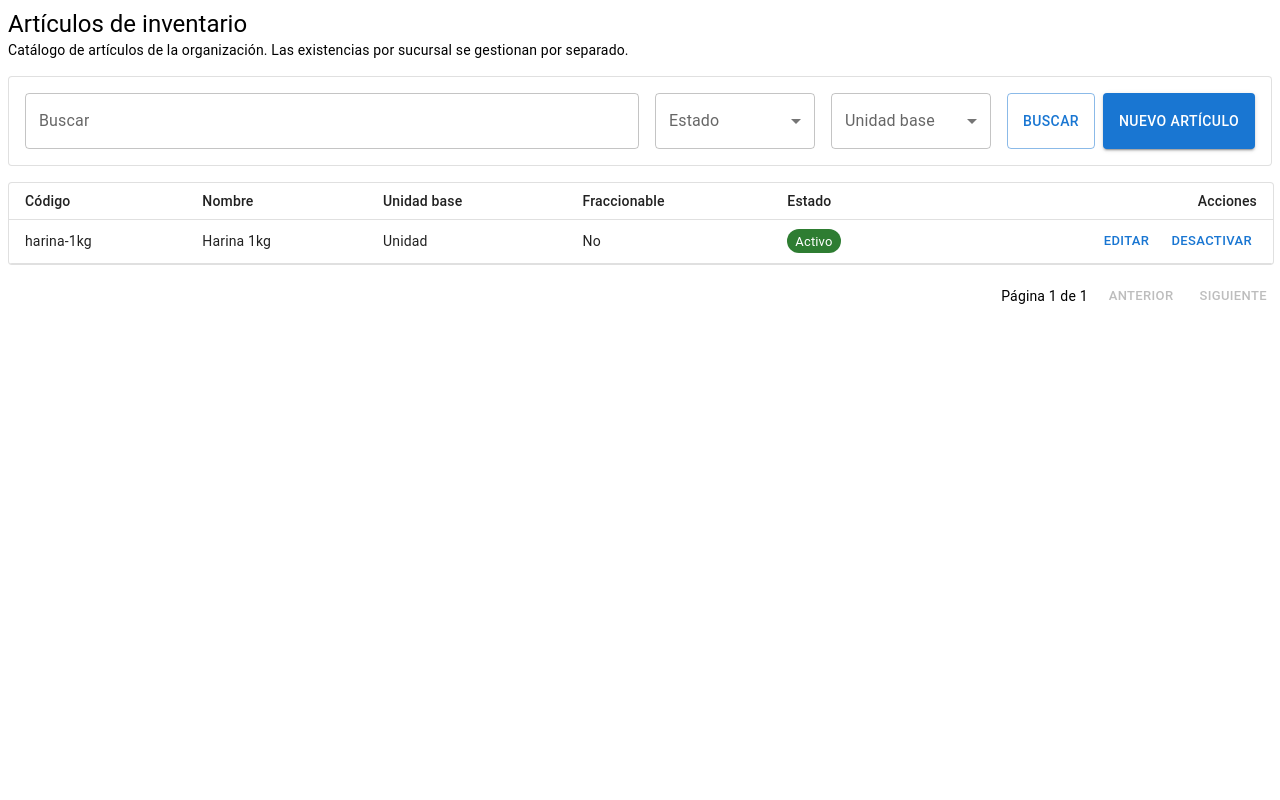
Test case: InventoryItemsPage › creates an item using a trimmed lowercase code without sending an expected version
Expected: the text "Harina 1kg" is shown, [186,220,367,263]
Click the button "Nuevo artículo" at x=1179, y=121, box [1103,93,1255,149]
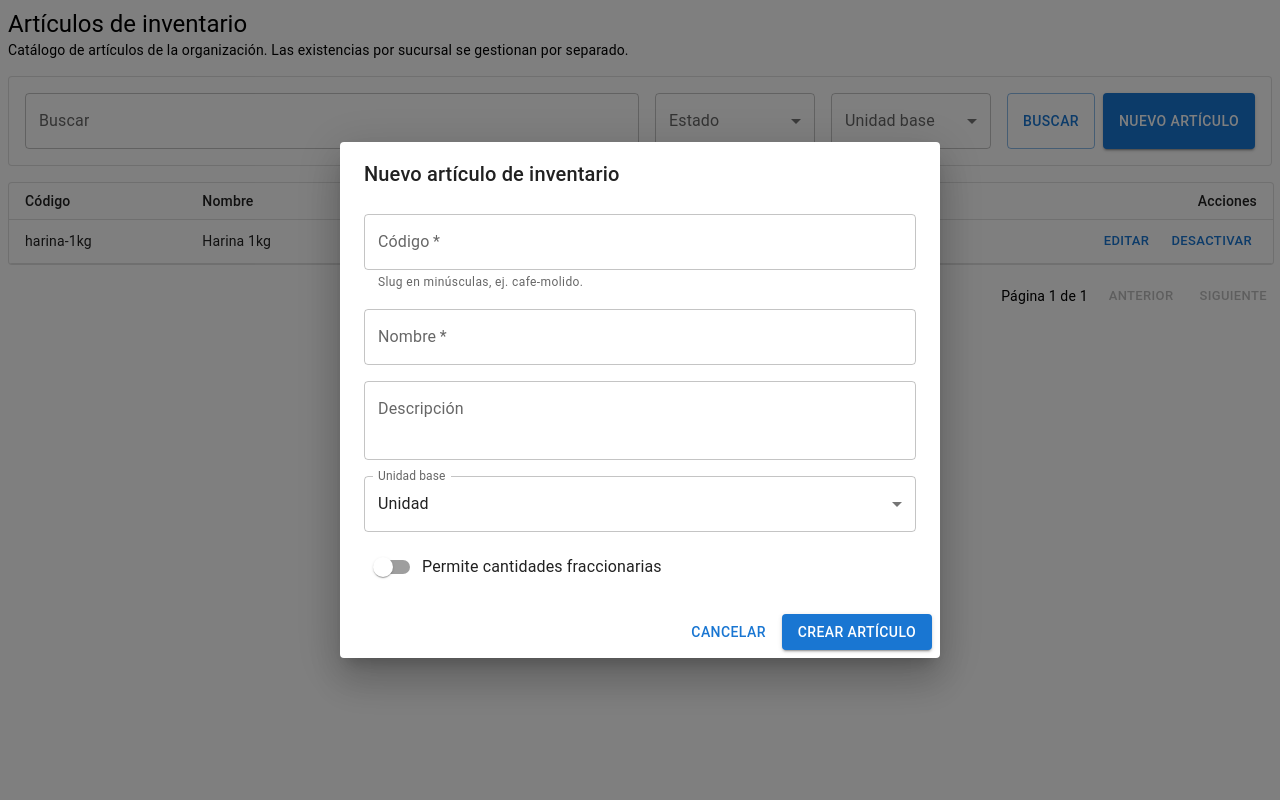
Type " cafe-molido " into the field labelled "Código *" at x=640, y=242, box [364,214,916,270]
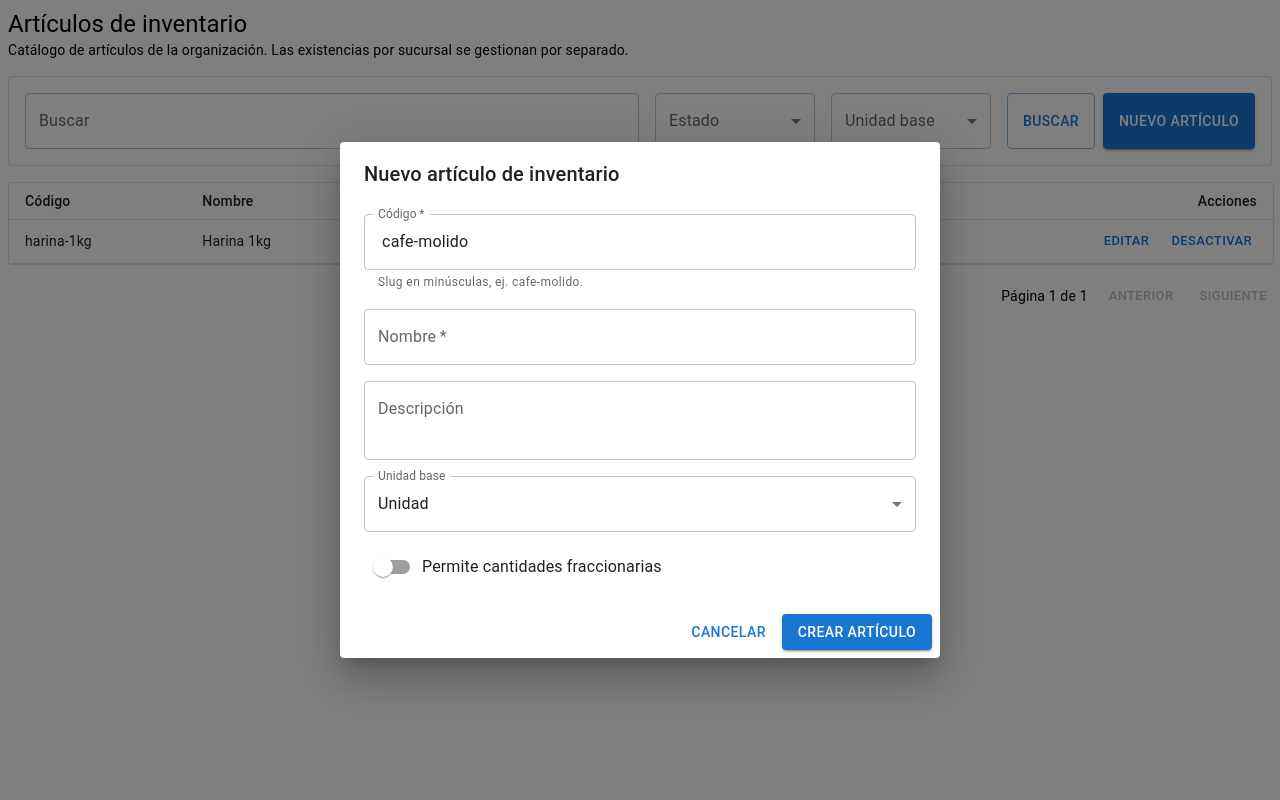
Type "Café molido" into the field labelled "Nombre *" at x=640, y=337, box [364,309,916,365]
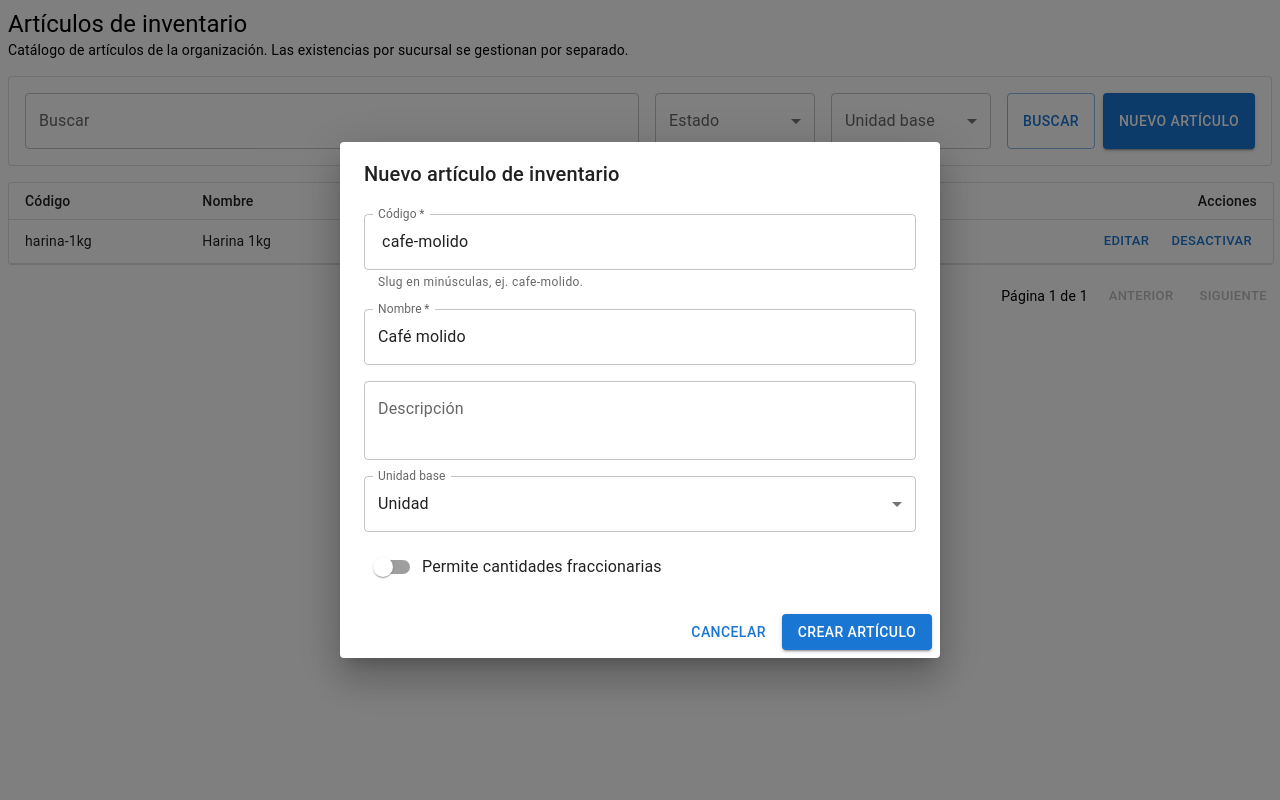
Click the button "Crear artículo" at x=857, y=632, box [782,614,932,650]
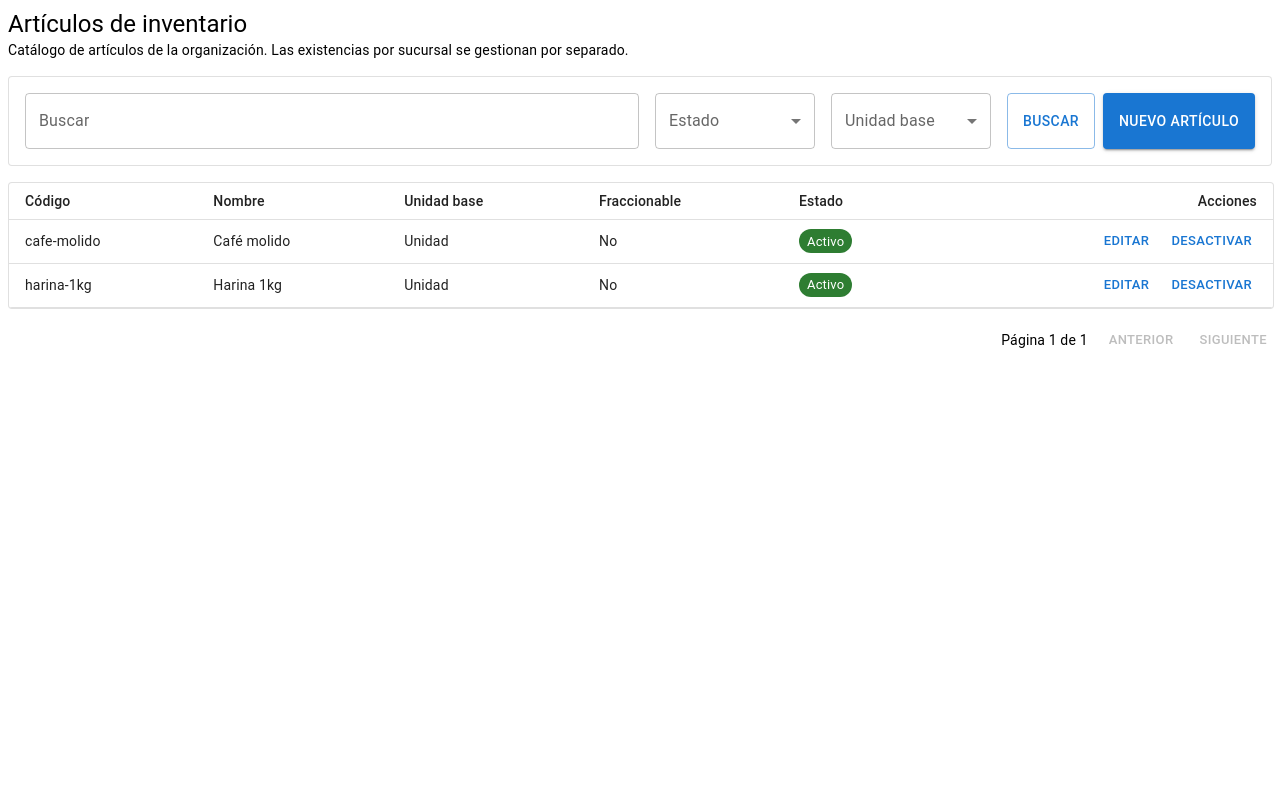
Expected: the text "Café molido" is shown, [197,220,388,263]
Expected: the dialog is gone
